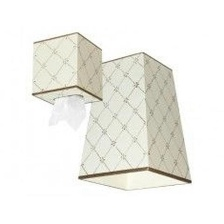plastic_box: (72, 47, 197, 198), (27, 29, 108, 111)
tissue: (44, 90, 93, 137)
